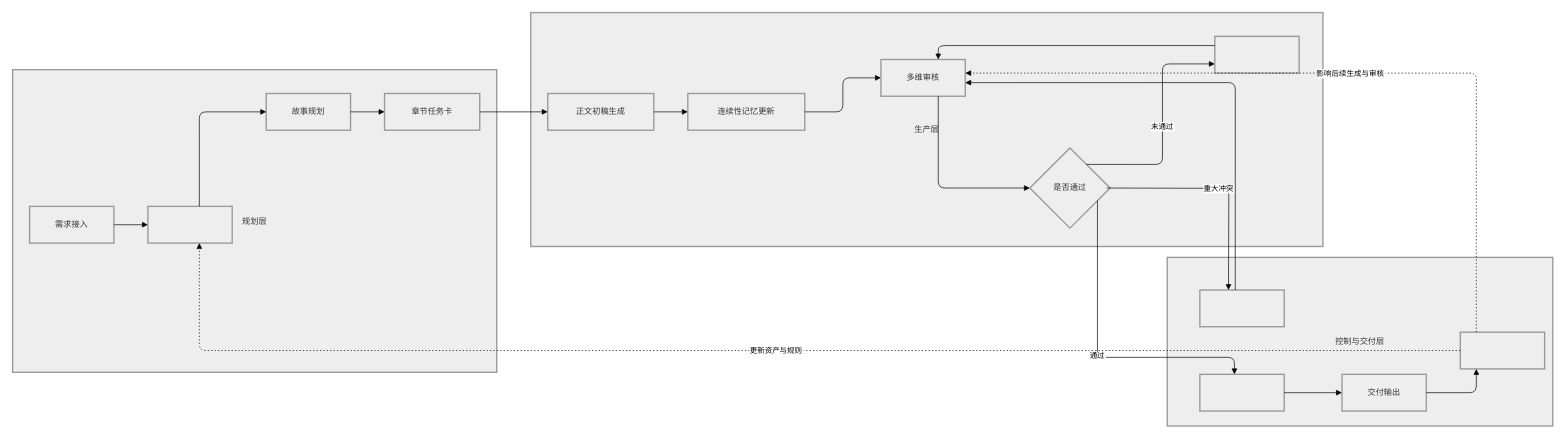
This 1565x438 diagram has some shape labels left out. The centre of each missing label's shape, as x and y in pixels:
"人工接管" goes at point (1242, 308).
"定向修订" goes at point (1256, 54).
"数据回流" goes at point (1502, 350).
"版本归档" goes at point (1242, 392).
"资产装载" goes at point (190, 224).
